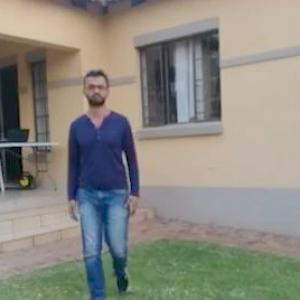follow: (66, 59, 146, 299)
